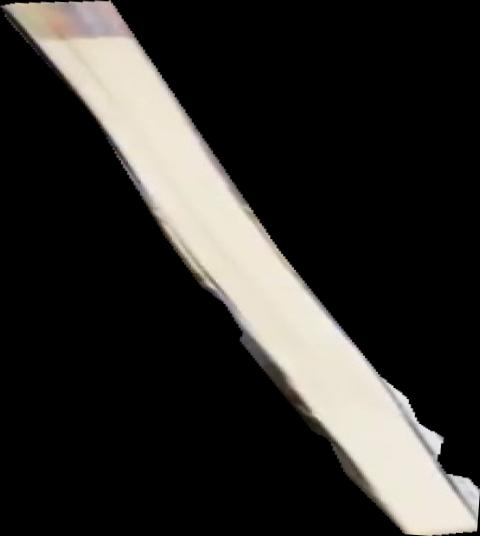backward: (1, 1, 480, 536)
